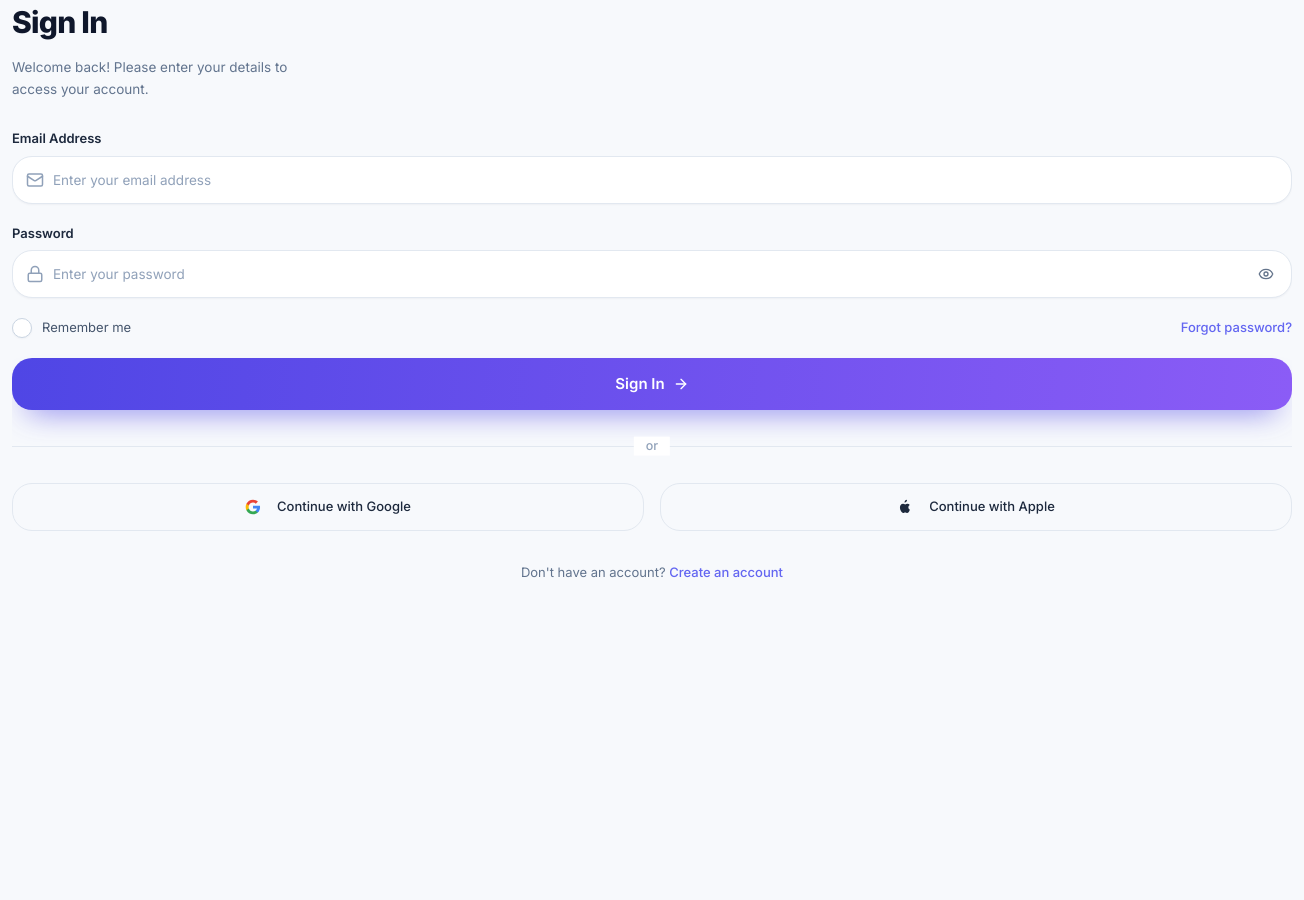
Scenario: LoginForm › displays user-friendly message for invalid credentials
Type "user@example.com" into the field labelled "Email Address".
click(652, 180); type("user@example.com")  # box [12,156,1292,204]
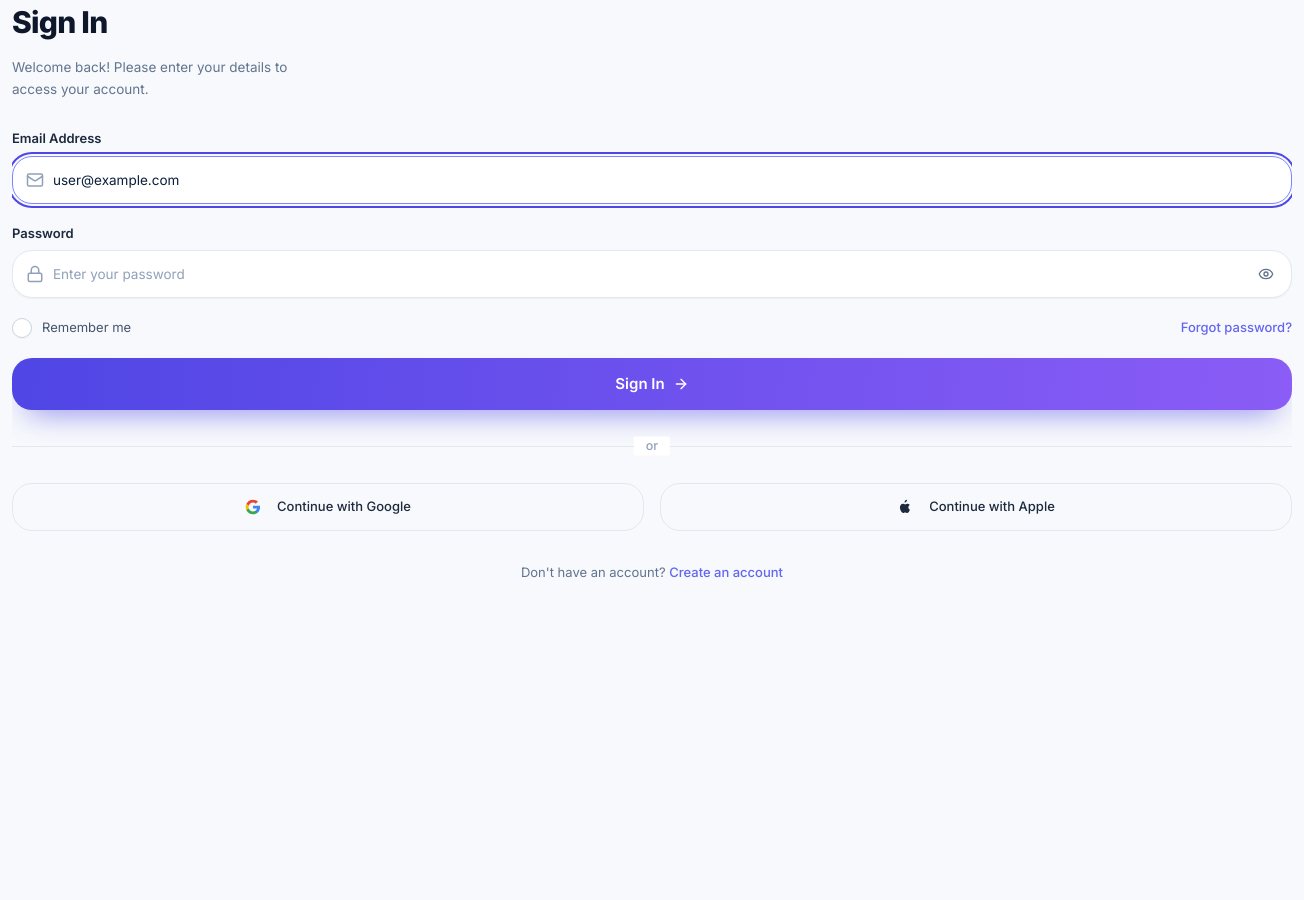
Type "WrongPass" into the password field labelled "Password".
click(652, 274); type("WrongPass")  # box [12,250,1292,298]
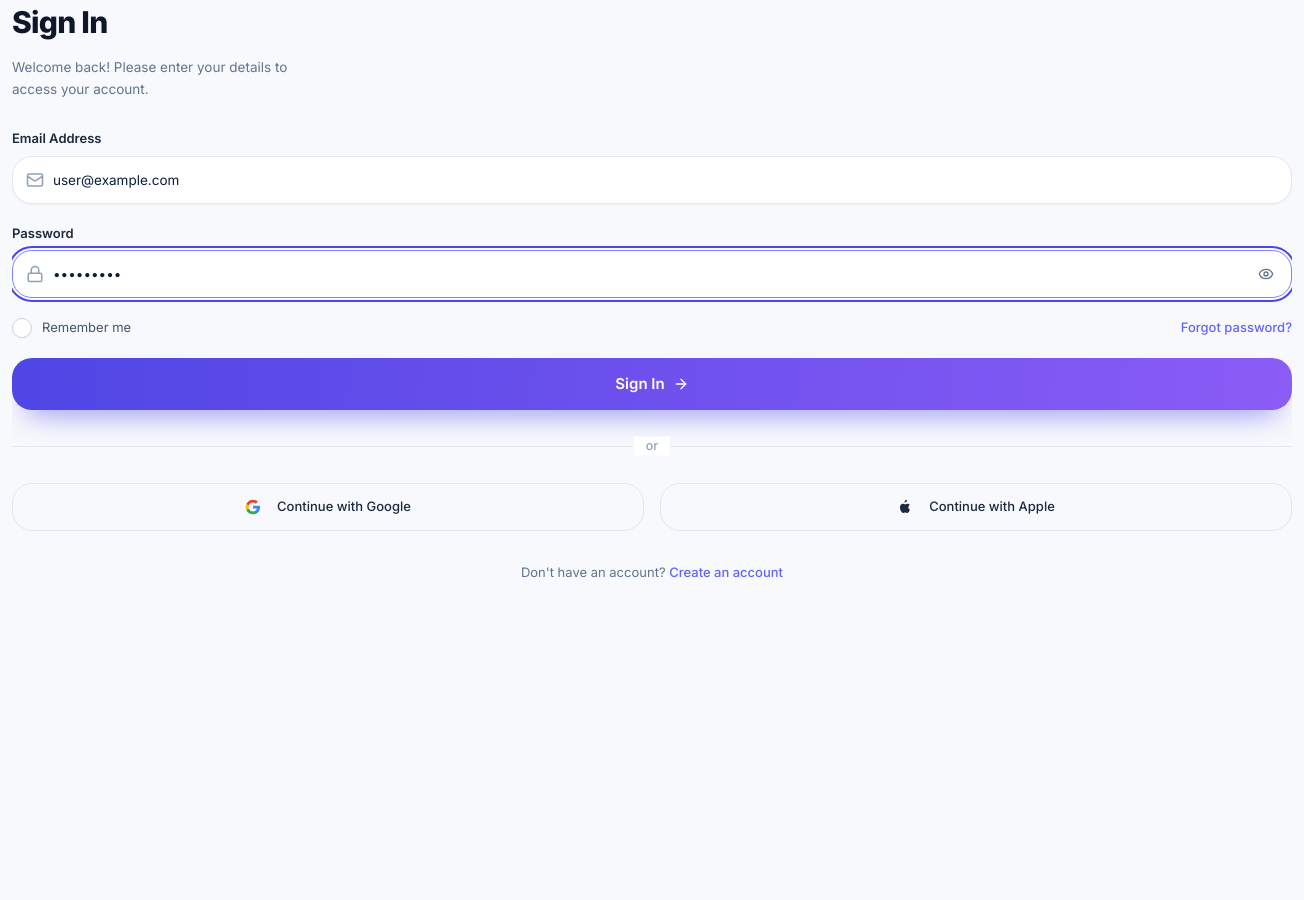
Click the button "Sign In".
click(652, 384)  # box [12,358,1292,410]
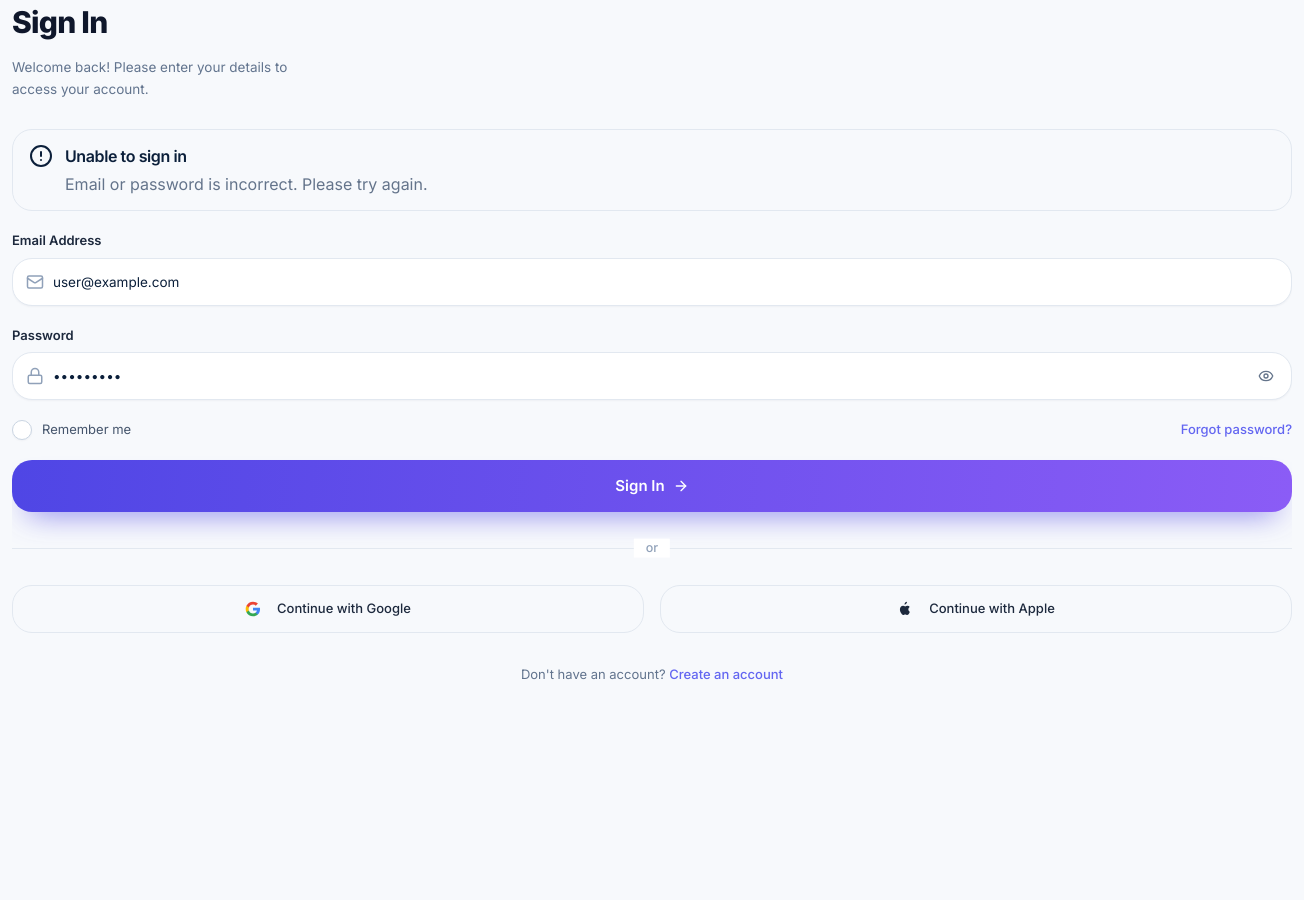
expect the text "Unable to sign in" is shown: met, box [65,146,187,166]
expect the text "Email or password is incorrect. Please try again." is shown: met, box [65,174,428,194]
